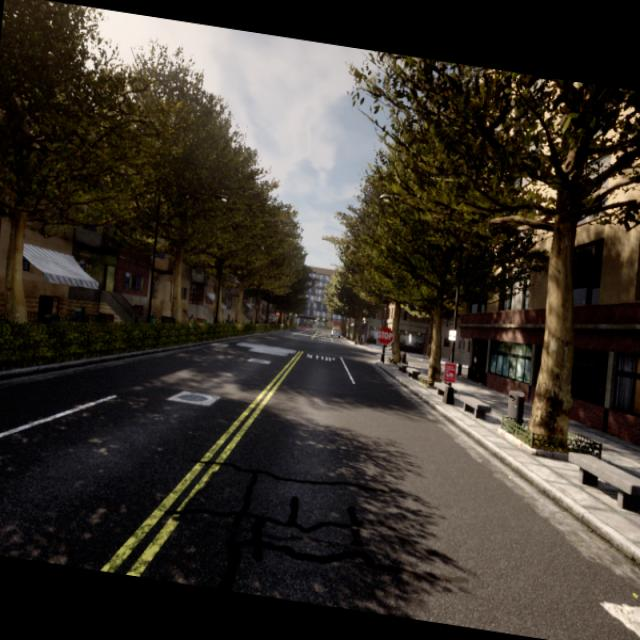stop sign: (374, 321, 396, 363), (376, 324, 394, 347)
